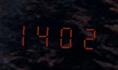four: (38, 18, 57, 49)
one: (18, 17, 37, 48)
two: (78, 21, 97, 52)
zero: (58, 20, 77, 50)
